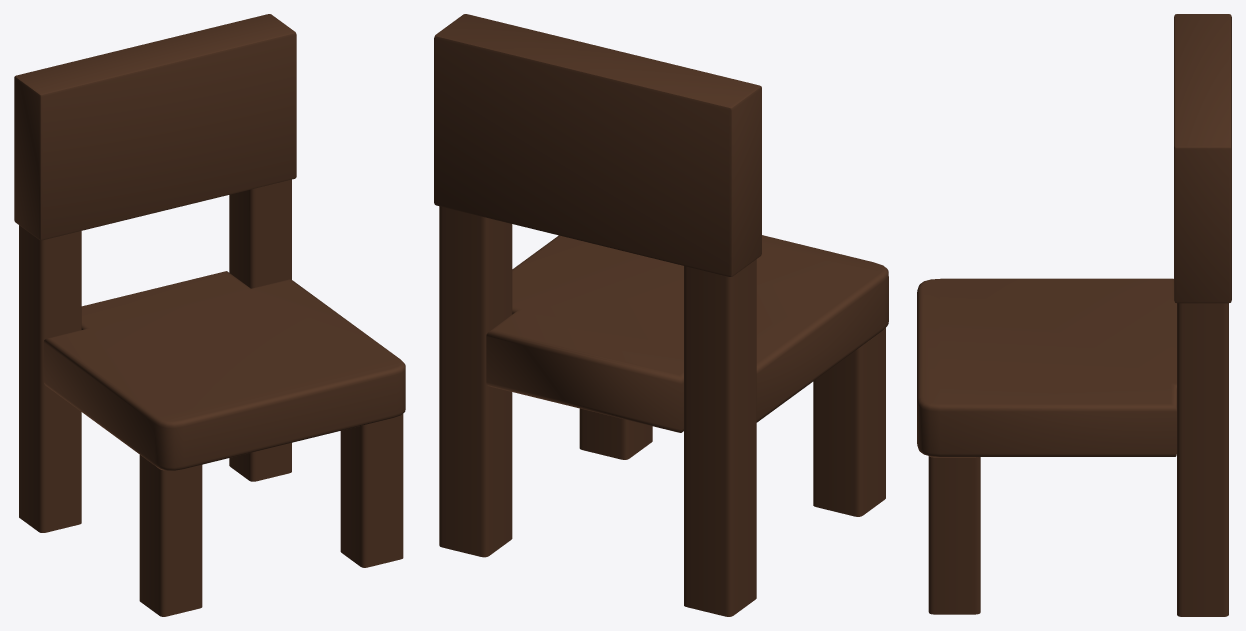
Rendered from Dining_chair.fbx.
The picture shows the model from 3 angles, left to right: view 1: azimuth 30°, elevation 25°; view 2: azimuth 150°, elevation 25°; view 3: azimuth 270°, elevation 25°; orthographic projection. The views are drawn at different scales.
Visible parts, largest first — view 1: Dining_Chair_starnick; view 2: Dining_Chair_starnick; view 3: Dining_Chair_starnick.
Part boxes in pixels (x1,y1,x2,y2): Dining_Chair_starnick: [14, 14, 405, 616]; Dining_Chair_starnick: [434, 14, 888, 616]; Dining_Chair_starnick: [917, 14, 1231, 616].
Bounding box in the file's own units: 550 × 545 × 900.
